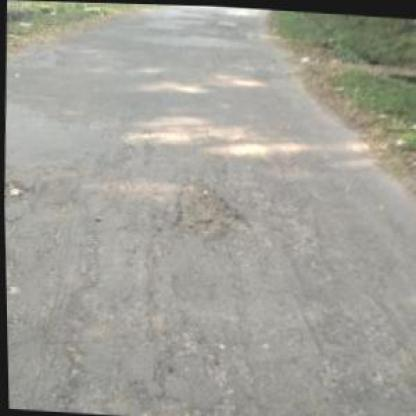pothole: (167, 173, 255, 244), (4, 177, 39, 208)
